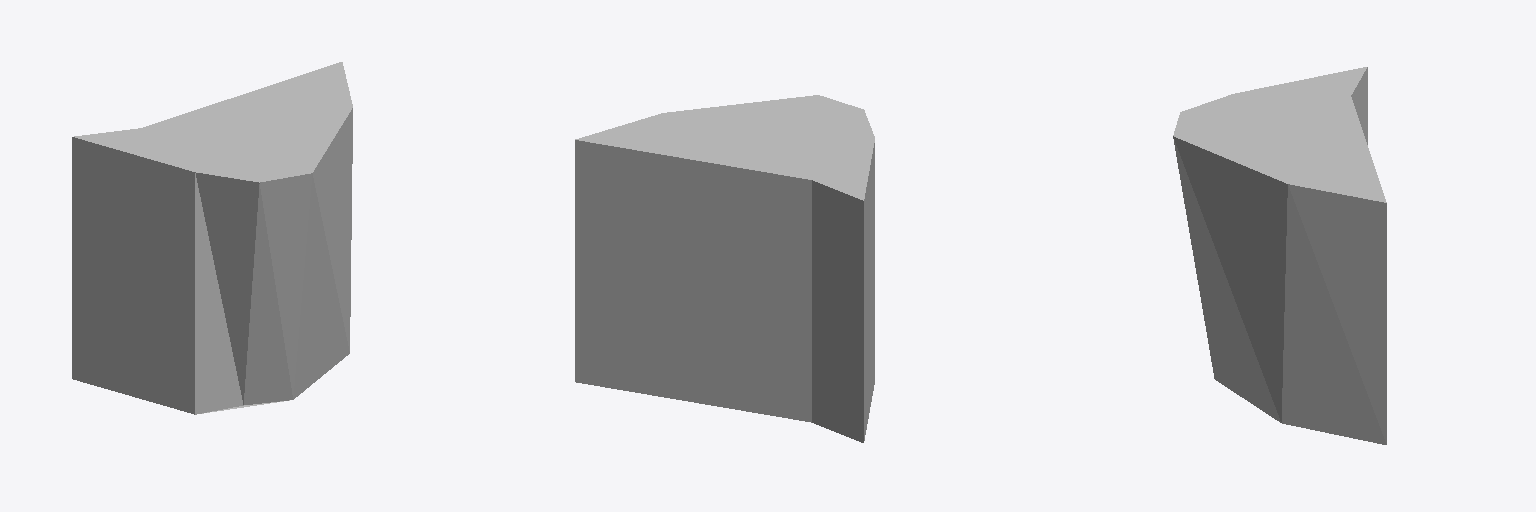
File: Platform front right.obj
3 renders of one model, left to right at view 1: azimuth 30°, elevation 25°; view 2: azimuth 150°, elevation 25°; view 3: azimuth 270°, elevation 25°, orthographic.
Visible parts, largest first — view 1: Platform front right; view 2: Platform front right; view 3: Platform front right.
Boxes of the visible parts, x1=… form: Platform front right: x1=72, y1=62, x2=352, y2=414; Platform front right: x1=575, y1=95, x2=874, y2=442; Platform front right: x1=1173, y1=67, x2=1386, y2=444.
Size of the model in its own units: 68.2 by 56.43 by 45.16.